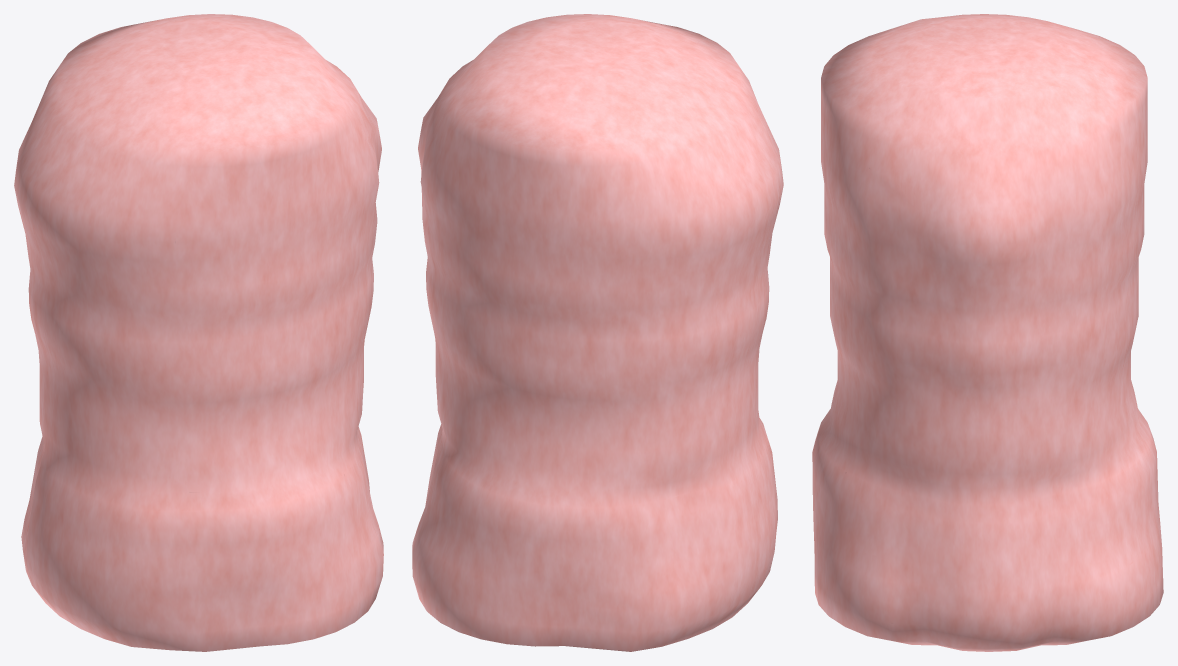
Rendered from Inside Epithelial Cell.fbx.
3 renders of one model, left to right at view 1: azimuth 30°, elevation 25°; view 2: azimuth 150°, elevation 25°; view 3: azimuth 270°, elevation 25°, orthographic.
Visible parts, largest first — view 1: Epithelial Cell Container (Terrain); view 2: Epithelial Cell Container (Terrain); view 3: Epithelial Cell Container (Terrain).
Part boxes in pixels (x1,y1,x2,y2): Epithelial Cell Container (Terrain): (14,14,383,651); Epithelial Cell Container (Terrain): (412,14,783,651); Epithelial Cell Container (Terrain): (812,14,1163,651).
Size of the model in its own units: 48737 by 43365 by 77491.
1 material, 1 textured.
